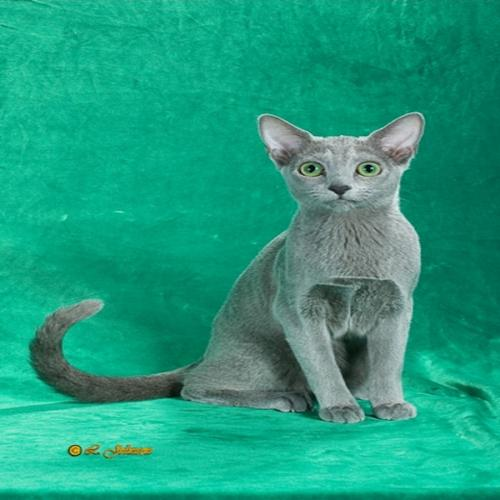rblue: (252, 109, 439, 225)
